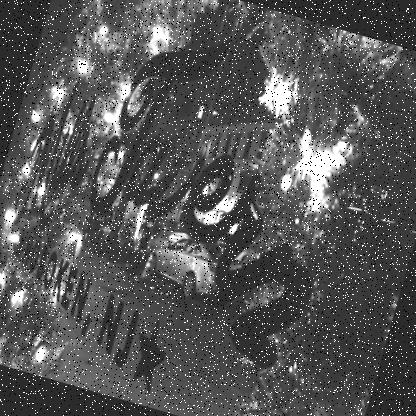Car: (122, 222, 236, 314)
